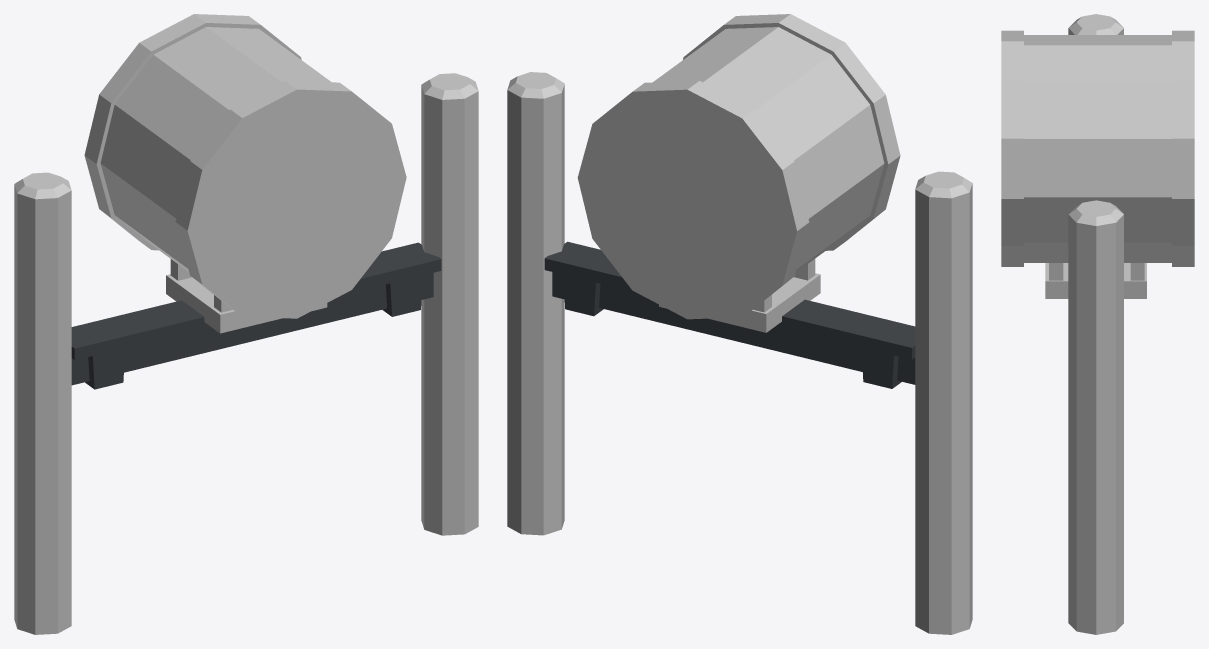
Rendered from SM_Prop_Pipeline_Pipe_Large_Support_01.fbx.
The picture shows the model from 3 angles, left to right: view 1: azimuth 30°, elevation 25°; view 2: azimuth 150°, elevation 25°; view 3: azimuth 270°, elevation 25°; orthographic projection. The views are drawn at different scales.
Parts seen in each view (by area): view 1: SM_Prop_Pipeline_Pipe_Large_Support_01; view 2: SM_Prop_Pipeline_Pipe_Large_Support_01; view 3: SM_Prop_Pipeline_Pipe_Large_Support_01.
Boxes of the visible parts, x1,y1,x2,y2 form: SM_Prop_Pipeline_Pipe_Large_Support_01: (14,14,478,634); SM_Prop_Pipeline_Pipe_Large_Support_01: (507,14,972,634); SM_Prop_Pipeline_Pipe_Large_Support_01: (1001,14,1194,634).
Size of the model in its own units: 437 by 475 by 170.
